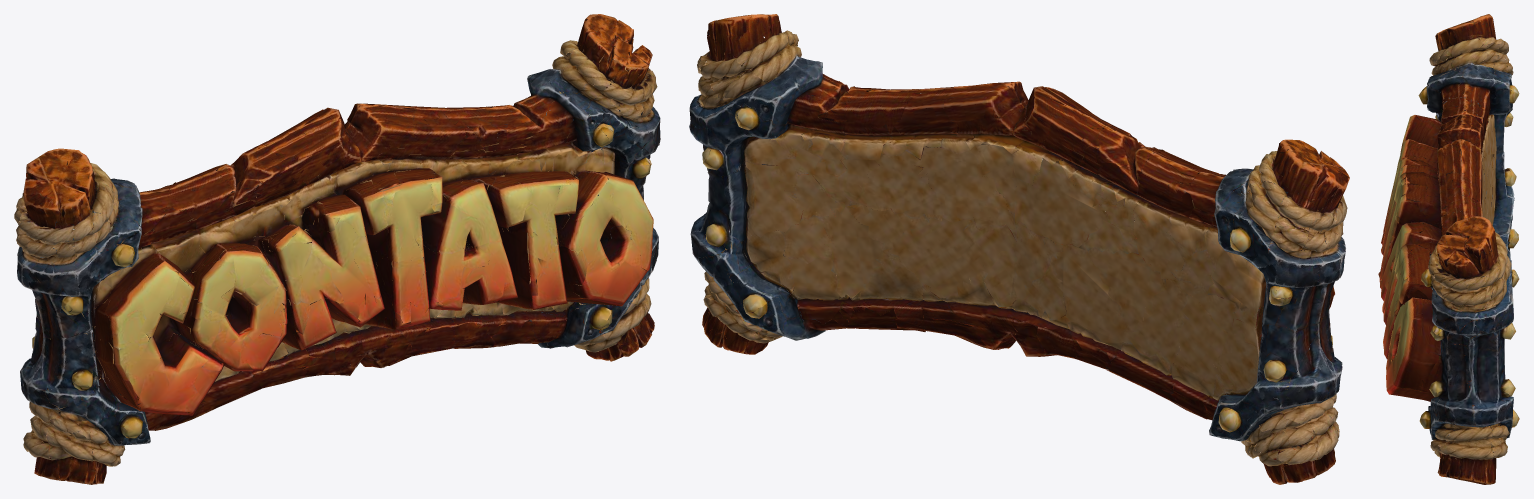
The model's file is title_contato.glb.
The picture shows the model from 3 angles, left to right: view 1: azimuth 30°, elevation 25°; view 2: azimuth 150°, elevation 25°; view 3: azimuth 270°, elevation 25°; orthographic projection. The views are drawn at different scales.
Parts seen in each view (by area): view 1: Mesh_0; view 2: Mesh_0; view 3: Mesh_0.
Boxes of the visible parts, x1,y1,x2,y2 form: Mesh_0: (14, 14, 660, 484); Mesh_0: (689, 14, 1349, 484); Mesh_0: (1378, 14, 1519, 484).
Bounding box in the file's own units: 1.9 × 0.9581 × 0.468.
1 material, 1 textured.
